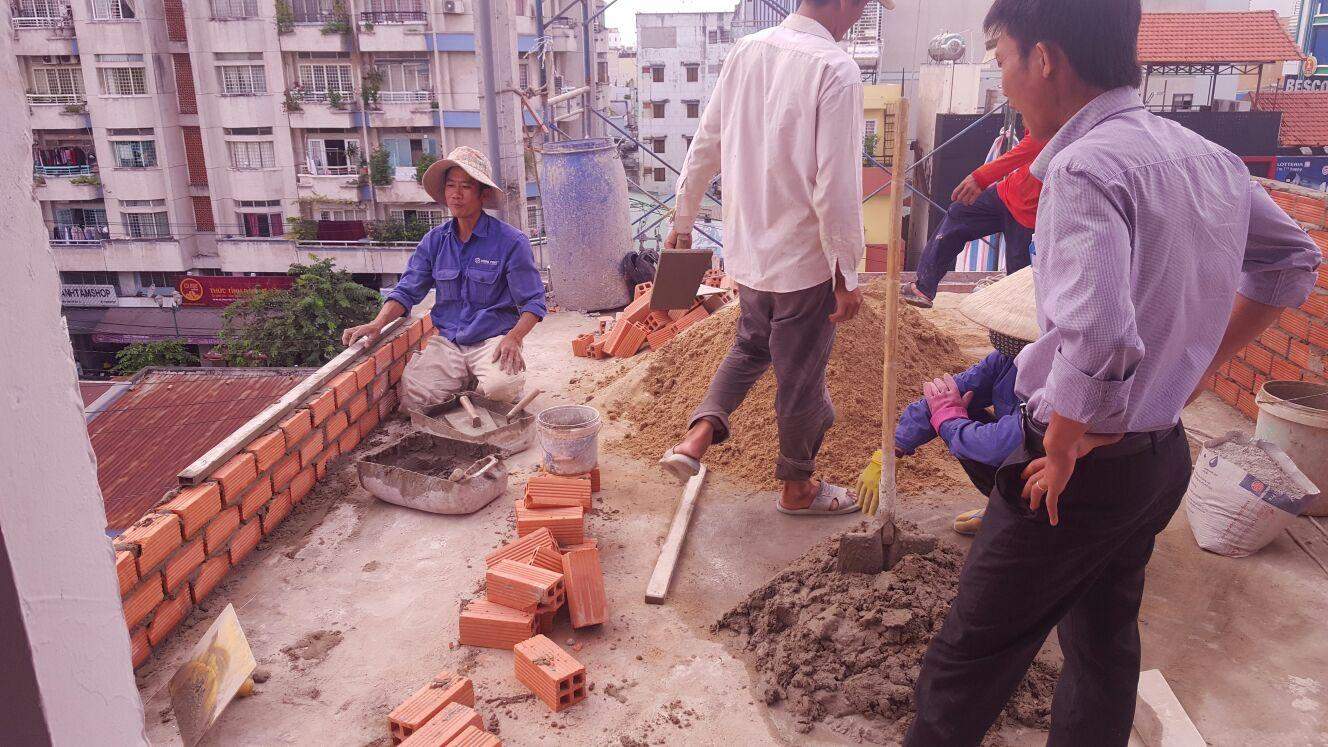Gloves: (922, 372, 973, 435), (854, 448, 899, 516)
Helmet: (426, 152, 503, 200)
Person: (900, 0, 1322, 745), (658, 0, 895, 516), (340, 145, 547, 418)
bare-arms: (1019, 436, 1079, 515), (487, 330, 533, 380), (831, 276, 869, 325), (336, 317, 385, 350)
no-boot: (774, 477, 862, 516), (660, 427, 715, 479)
no-helmet: (1000, 0, 1152, 48)
no-vest: (679, 15, 867, 295), (1052, 141, 1227, 433), (422, 227, 536, 339)
